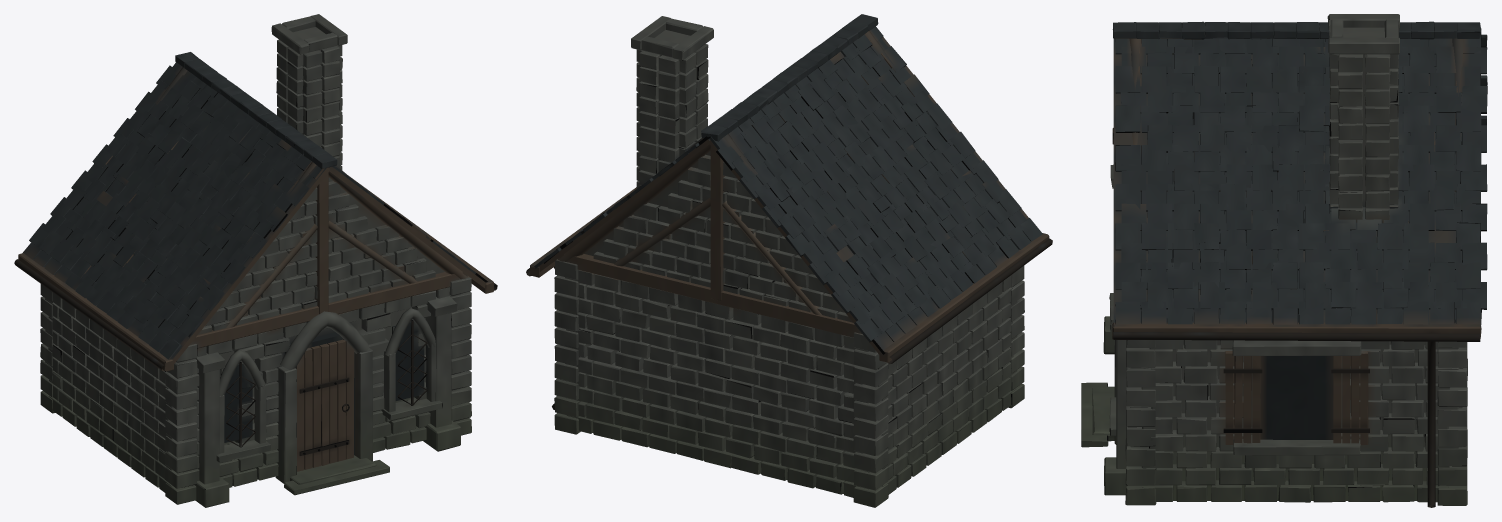
The model's file is gothic-cottage-v02.glb.
3 renders of one model, left to right at view 1: azimuth 30°, elevation 25°; view 2: azimuth 150°, elevation 25°; view 3: azimuth 270°, elevation 25°, orthographic. The views are drawn at different scales.
Visible parts, largest first — view 1: GothicCottage_LOD0; view 2: GothicCottage_LOD0; view 3: GothicCottage_LOD0.
Boxes of the visible parts, x1,y1,x2,y2 form: GothicCottage_LOD0: (14,14,497,507); GothicCottage_LOD0: (526,14,1052,507); GothicCottage_LOD0: (1081,14,1487,507).
Size of what is drawn, in the model's own units: 6.48 by 6.48 by 5.43.
Materials: 1 (1 with a texture image).
